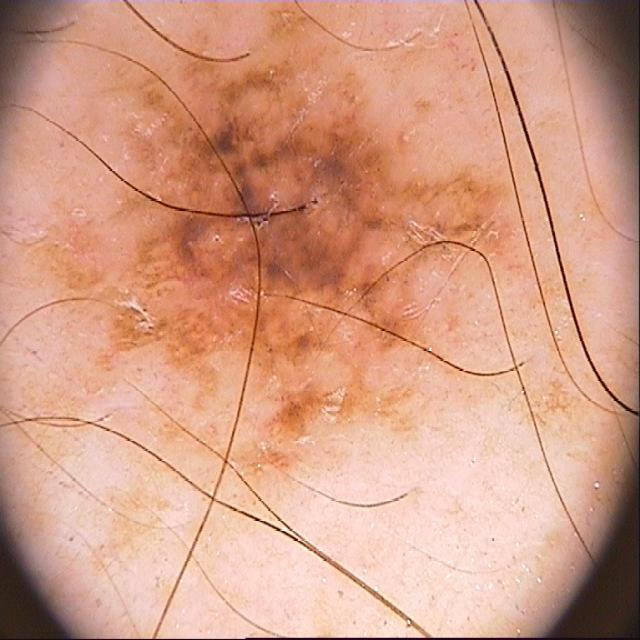Skin-Cancer Nevus: (4, 4, 640, 629)
